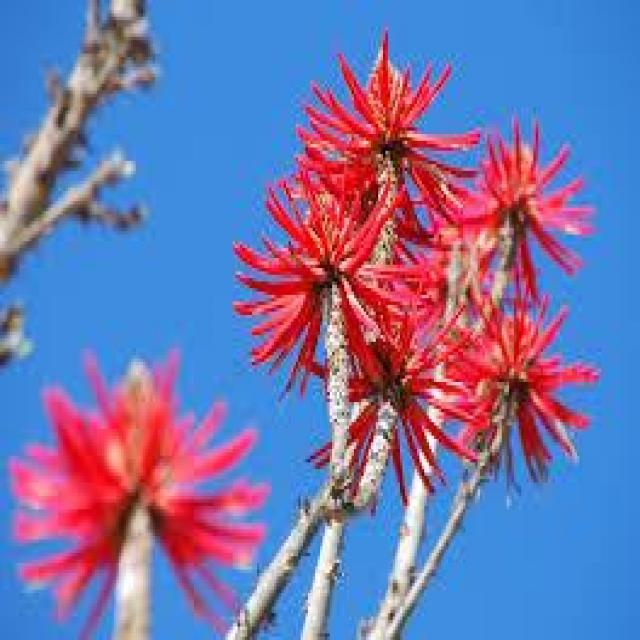organic waste: (232, 161, 460, 499), (19, 373, 257, 594), (431, 287, 594, 484), (298, 45, 454, 233), (450, 134, 590, 305)
